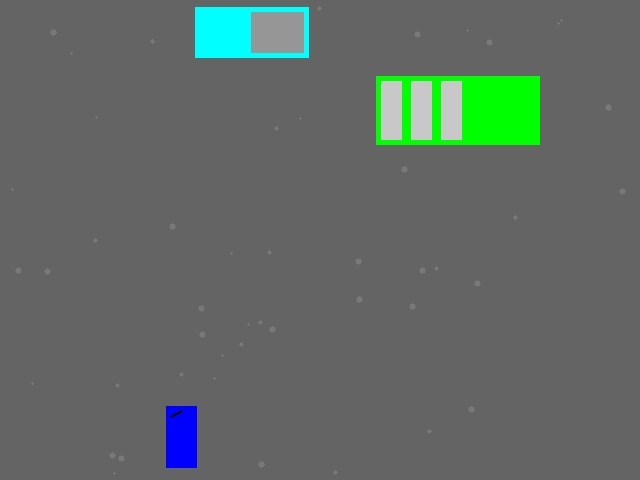bus: (376, 76, 539, 144)
motorcycle: (166, 406, 196, 467)
truck: (195, 7, 308, 57)
